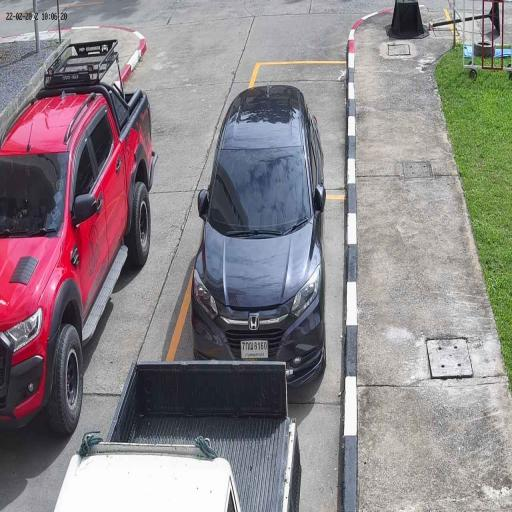car: (0, 80, 154, 437), (190, 82, 326, 392), (53, 361, 302, 512)
